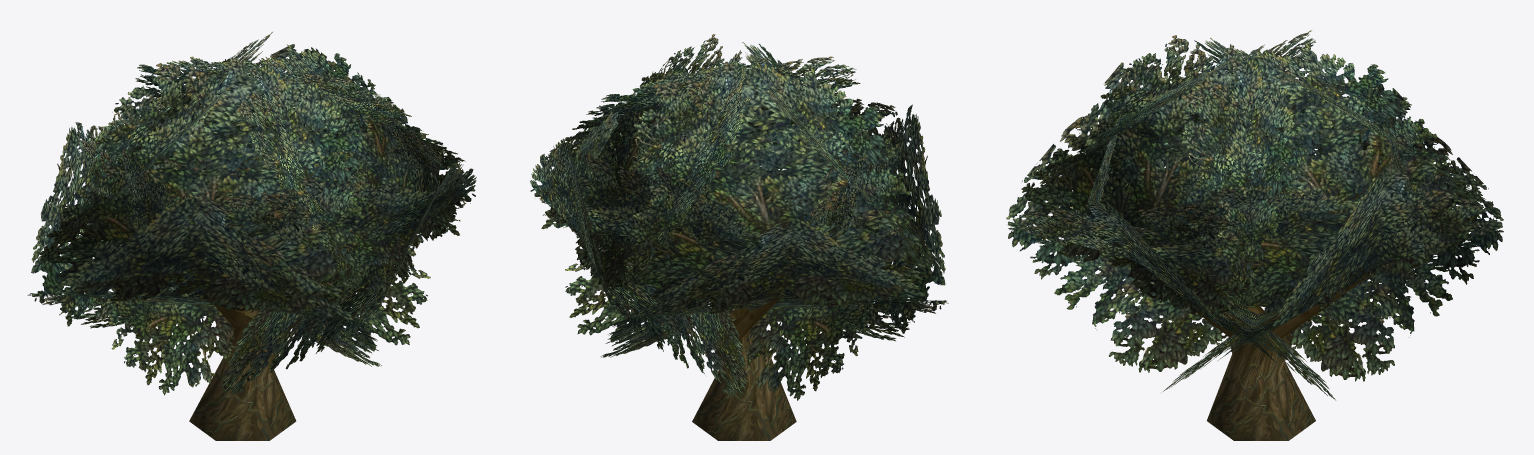
Rendered from duskwoodtree06.obj.
3 views of the same model, side by side, from view 1: azimuth 30°, elevation 25°; view 2: azimuth 150°, elevation 25°; view 3: azimuth 270°, elevation 25° (orthographic). The views are drawn at different scales.
Visible parts, largest first — view 1: Geoset1, Geoset0; view 2: Geoset1, Geoset0; view 3: Geoset1, Geoset0.
Part boxes in pixels (box(x1,y1,x2,y2)): Geoset1: box(27, 32, 476, 395); Geoset0: box(189, 299, 307, 440); Geoset1: box(530, 34, 948, 400); Geoset0: box(681, 296, 796, 440); Geoset1: box(1006, 30, 1503, 400); Geoset0: box(1162, 273, 1372, 440).
Bounding box in the file's own units: 65.31 × 49.18 × 63.21.
2 materials, 2 textured.
